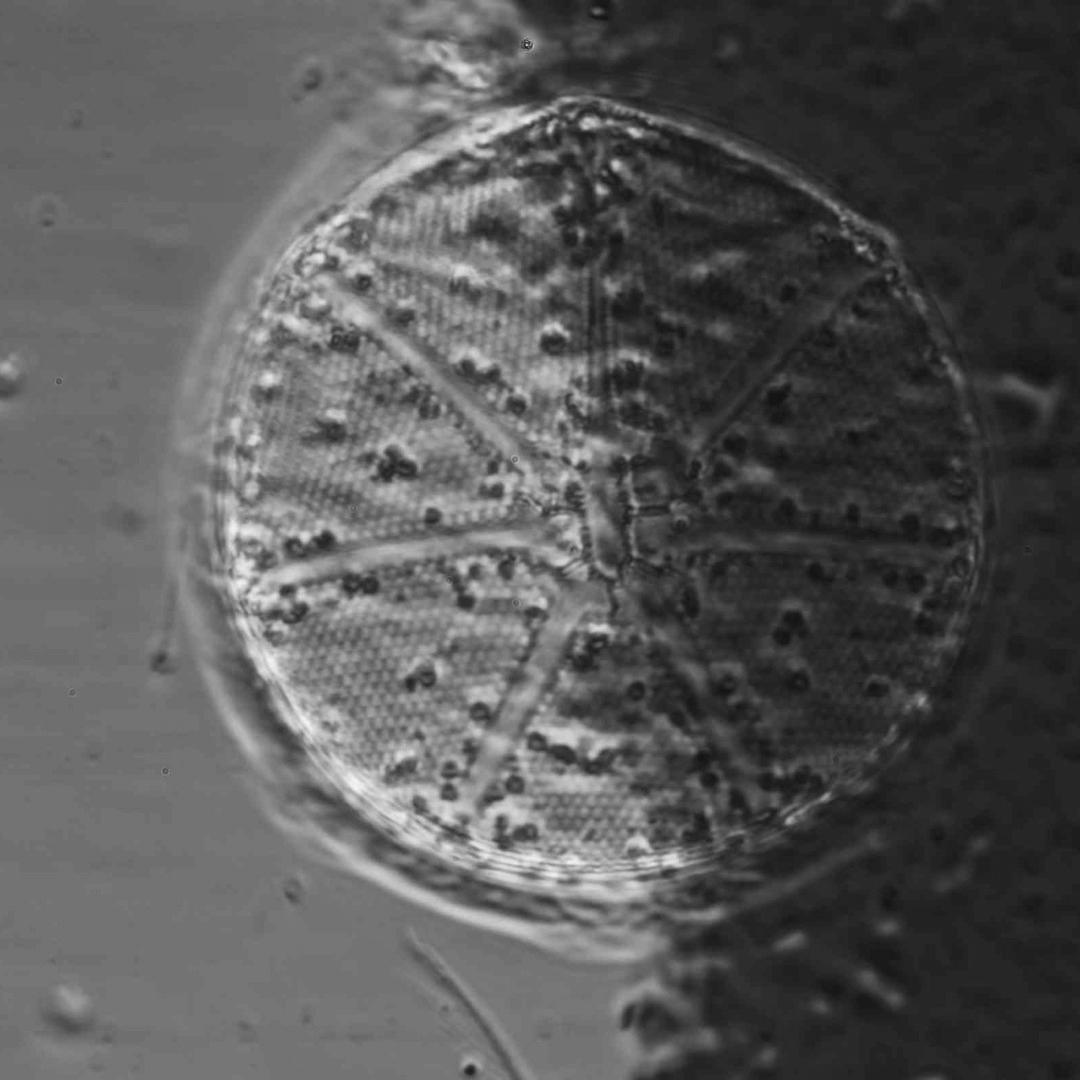asteromphalus_hyalinus: (211, 99, 981, 885)
